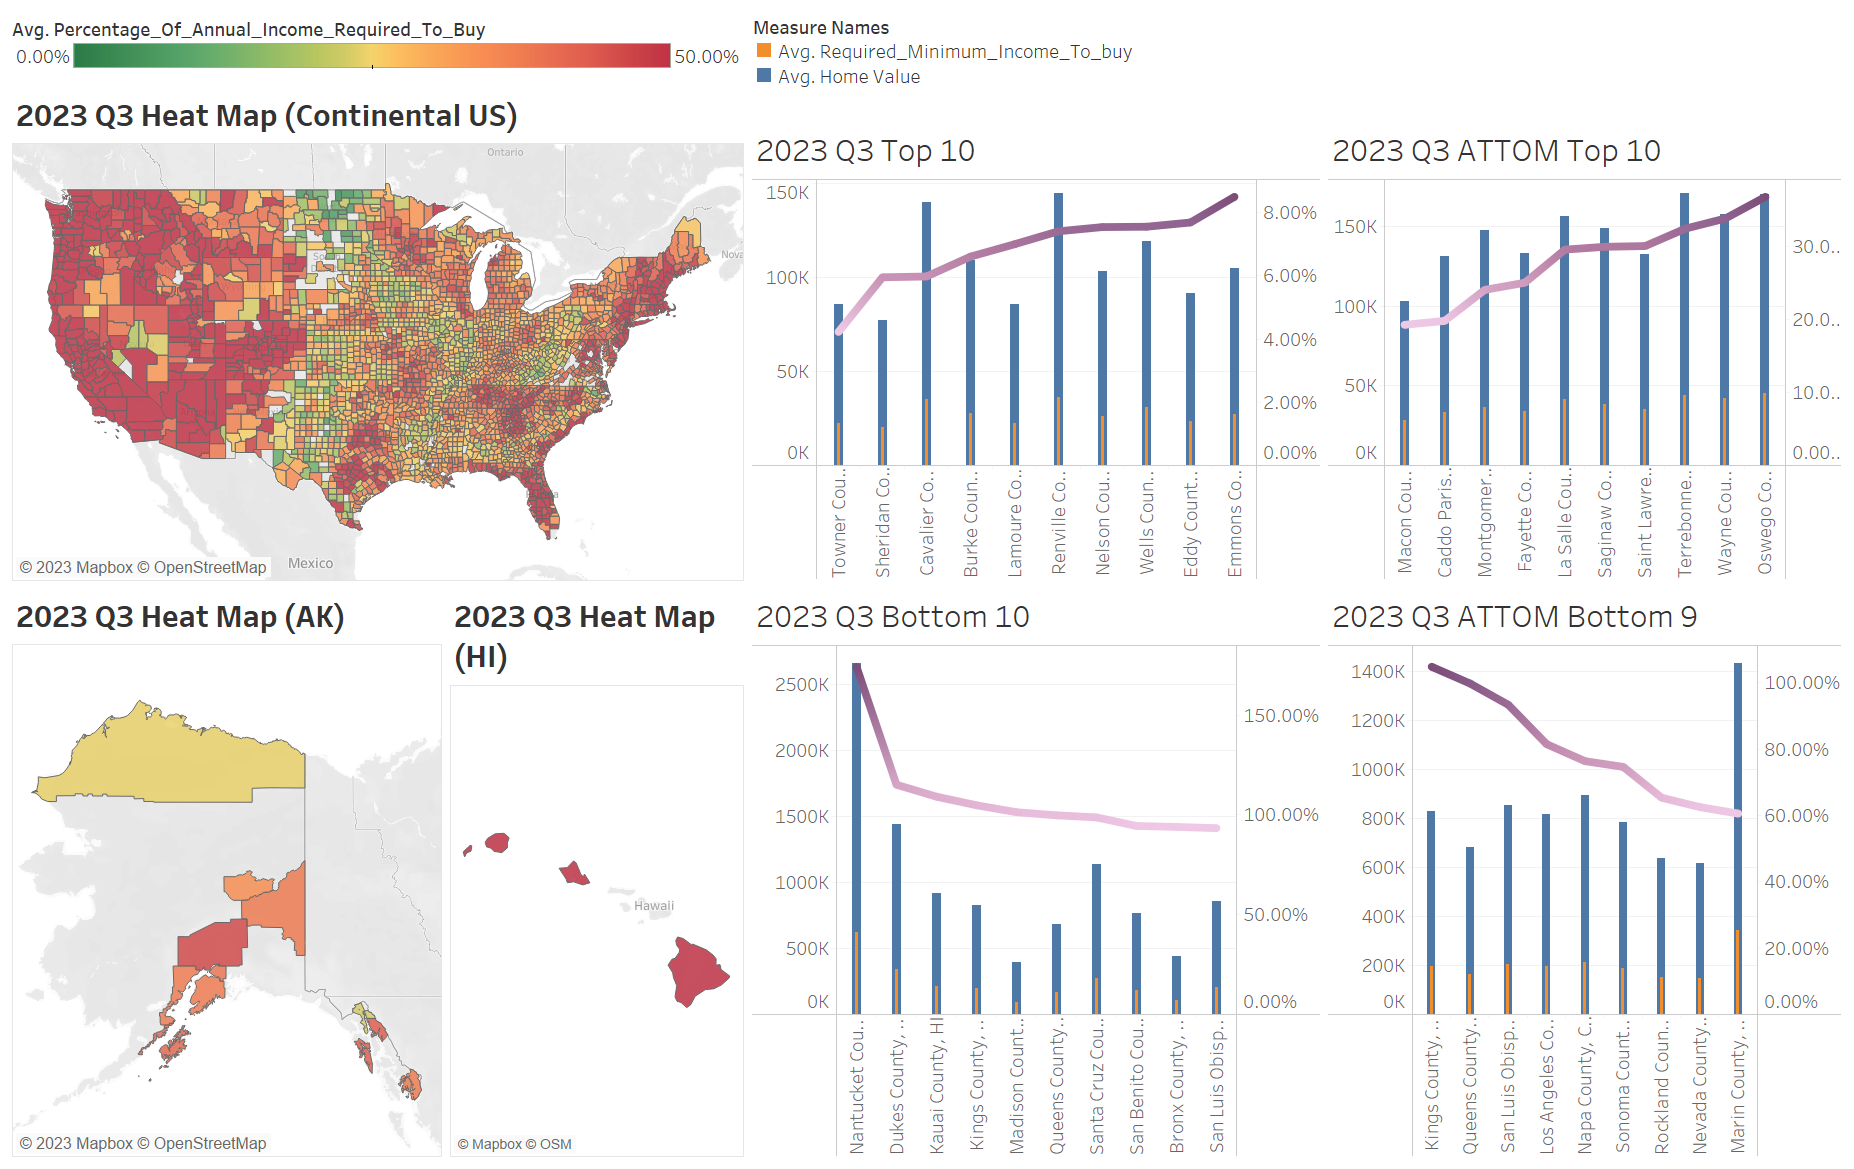

Layout of this report page (visuals, bound fields, positions):
{"tool":"tableau","page":{"name":"Dashboard","canvas":[1854,1169],"ordinal":0},"visuals":[{"type":"legend","title":"2023 Q3 Heat Map (Continental US)","param":"[federated.15gpave1v4up8g14bha8a0cyp54y].[avg:Calculation_2026901339672875014:qk","box":[8,8,739.6,75]},{"type":"legend","title":"2023 Q3 Top 10","param":"[federated.15gpave1v4up8g14bha8a0cyp54y].[:Measure Names]","box":[747.6,8,1098.5,110.3]},{"type":"worksheet","title":"2023 Q3 Heat Map (Continental US)","mark":"Automatic","box":[8,83,739.6,501.5]},{"type":"worksheet","title":"2023 Q3 Top 10","mark":"Bar","rows":["Calculation_2026901339672875014"],"cols":["Calculation_2026901339670831105"],"box":[747.6,118.3,576.7,466.2]},{"type":"worksheet","title":"2023 Q3 ATTOM Top 10","mark":"Bar","rows":["Calculation_2026901339672875014"],"cols":["Calculation_2026901339670831105"],"box":[1324.3,118.3,521.7,466.2]},{"type":"worksheet","title":"2023 Q3 Heat Map (AK)","mark":"Automatic","box":[8,584.5,437.7,576.5]},{"type":"worksheet","title":"2023 Q3 Heat Map (HI)","mark":"Automatic","box":[445.7,584.5,301.8,576.5]},{"type":"worksheet","title":"2023 Q3 Bottom 10","mark":"Bar","rows":["Calculation_2026901339672875014"],"cols":["Calculation_2026901339670831105"],"box":[747.6,584.5,576.7,576.5]},{"type":"worksheet","title":"2023 Q3 ATTOM Bottom 9","mark":"Bar","rows":["Calculation_2026901339672875014"],"cols":["Calculation_2026901339670831105"],"box":[1324.3,584.5,521.7,576.5]}]}

Visuals, with their boxes in screenshot pixels (x1, y1, x2, y2), scaled from the page's 1854x1169 canvas onto the 1854x1169 screenshot:
"2023 Q3 Heat Map (Continental US)" legend: region(8, 8, 748, 83)
"2023 Q3 Top 10" legend: region(748, 8, 1846, 118)
"2023 Q3 Heat Map (Continental US)" worksheet: region(8, 83, 748, 584)
"2023 Q3 Top 10" worksheet (Bar marks): region(748, 118, 1324, 584)
"2023 Q3 ATTOM Top 10" worksheet (Bar marks): region(1324, 118, 1846, 584)
"2023 Q3 Heat Map (AK)" worksheet: region(8, 584, 446, 1161)
"2023 Q3 Heat Map (HI)" worksheet: region(446, 584, 748, 1161)
"2023 Q3 Bottom 10" worksheet (Bar marks): region(748, 584, 1324, 1161)
"2023 Q3 ATTOM Bottom 9" worksheet (Bar marks): region(1324, 584, 1846, 1161)
